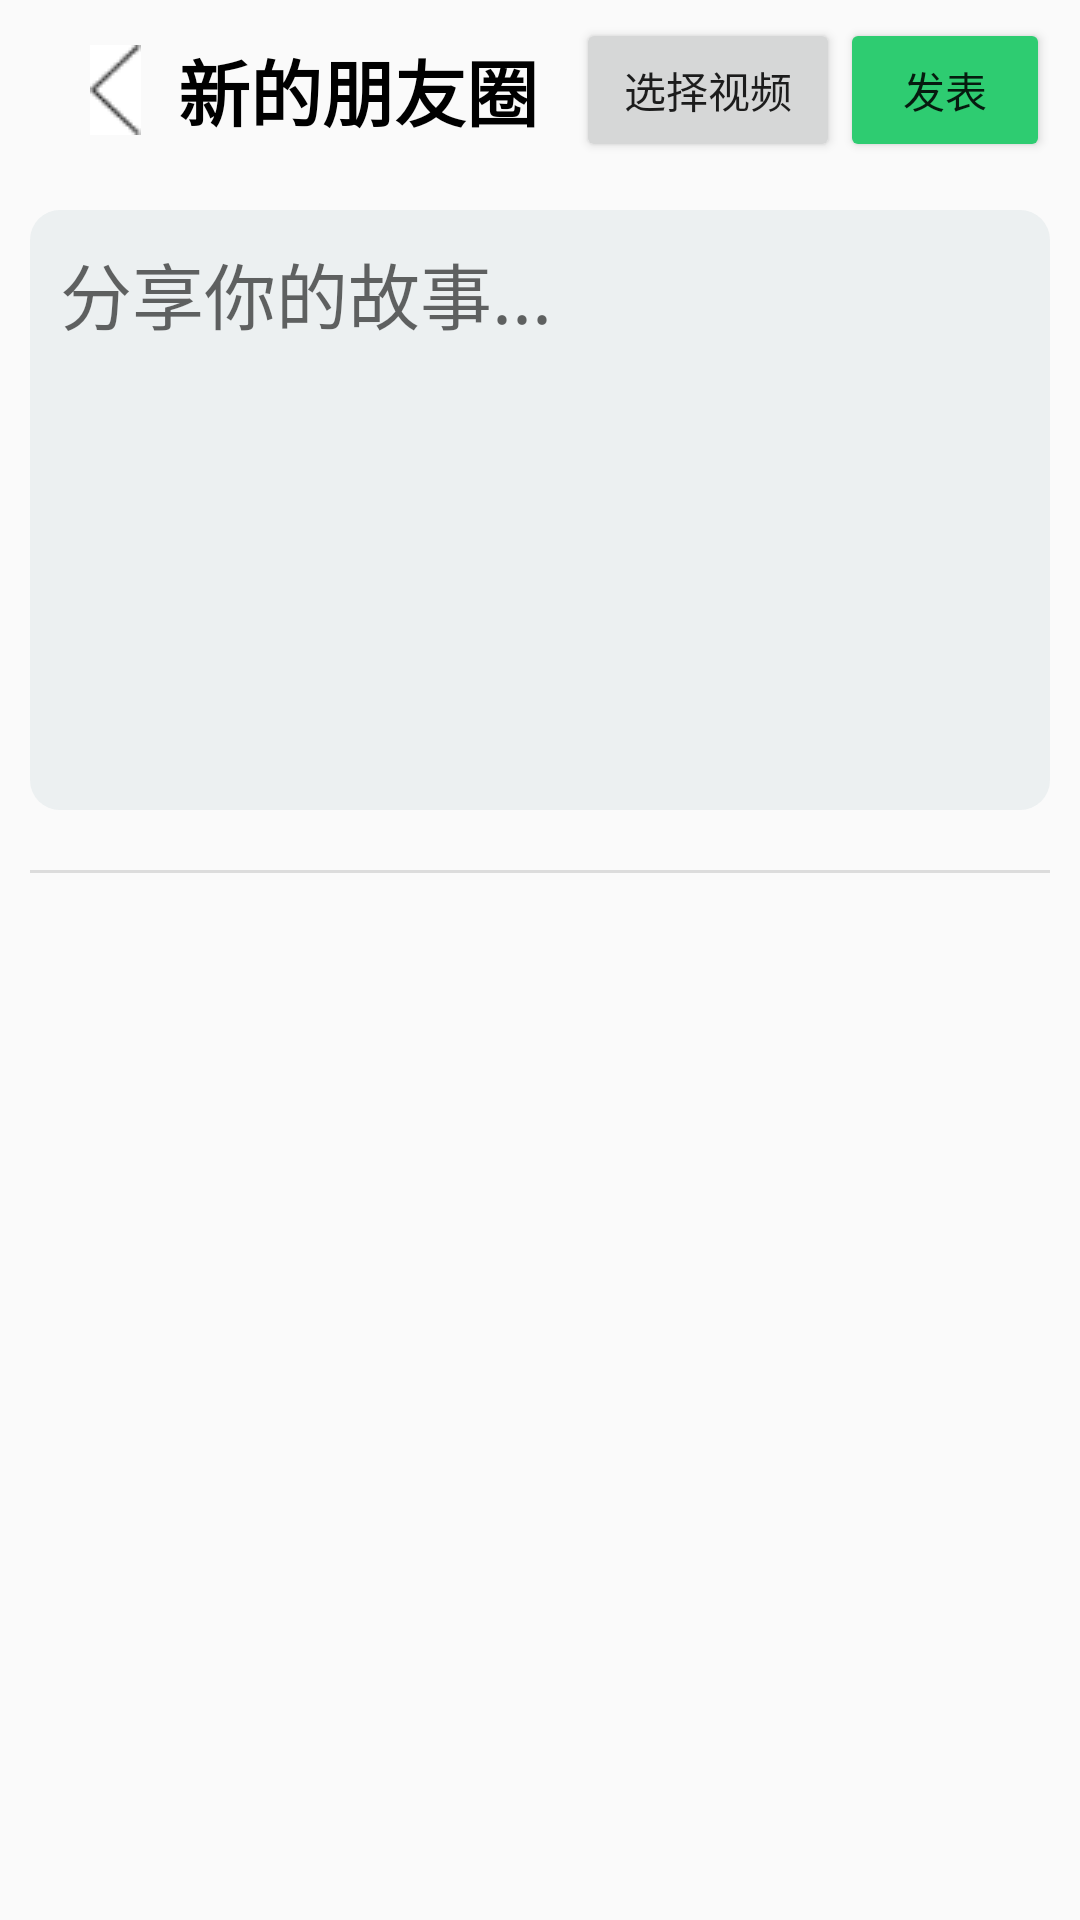

Named icons in this screenshot (1080w x 1920h) and their centers, (x,y):
less: (115,90)
